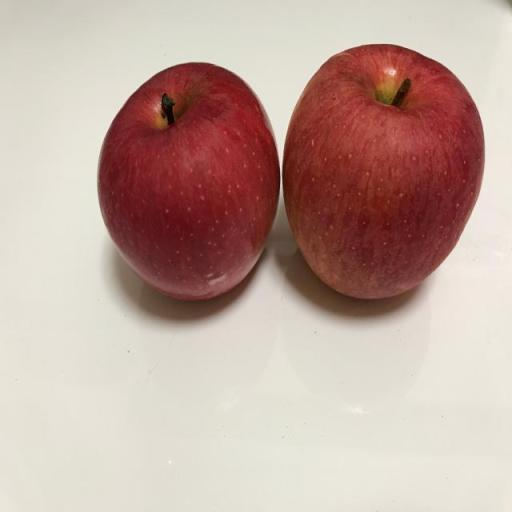fruit: (284, 44, 483, 297), (98, 63, 278, 298)
